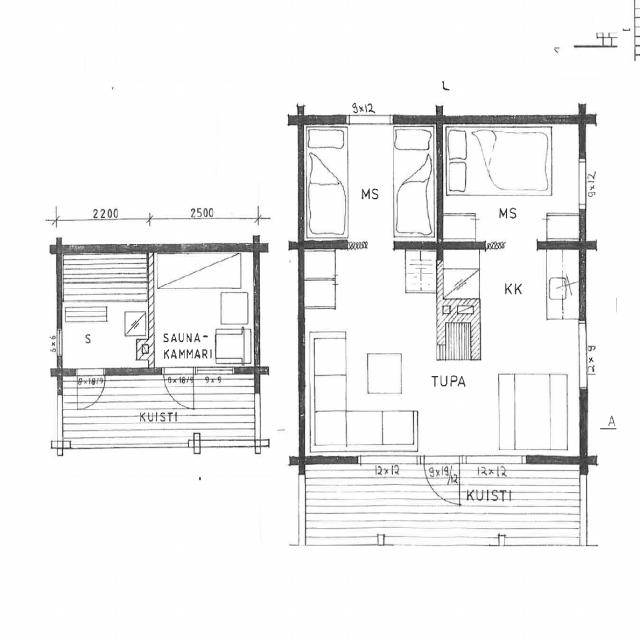door: (424, 455, 459, 503), (163, 368, 194, 408), (76, 368, 105, 407)
